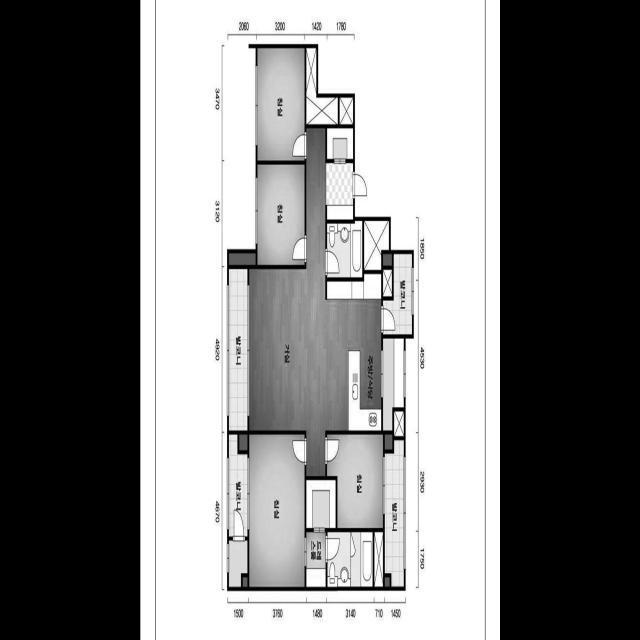background: (140, 0, 500, 640)
space_balconi: (228, 269, 247, 431), (384, 440, 403, 587), (383, 254, 412, 334), (228, 434, 247, 537)
space_bedroom: (249, 434, 304, 587), (257, 48, 304, 161), (327, 434, 383, 528), (257, 165, 304, 265)
space_dressroom: (306, 480, 335, 587)
space_front: (325, 128, 353, 220)
space_kitchen: (327, 274, 381, 431)
space_living_room: (249, 128, 327, 476)
space_other: (306, 48, 338, 125), (383, 338, 403, 431), (364, 221, 389, 270), (229, 540, 247, 587), (374, 532, 383, 587), (339, 97, 353, 125), (229, 253, 255, 265), (394, 411, 404, 437), (383, 270, 392, 296), (239, 435, 247, 450), (384, 435, 392, 449), (383, 254, 392, 266), (242, 577, 247, 587), (384, 577, 389, 586)
space_toilet: (327, 532, 372, 587), (327, 221, 362, 278)
